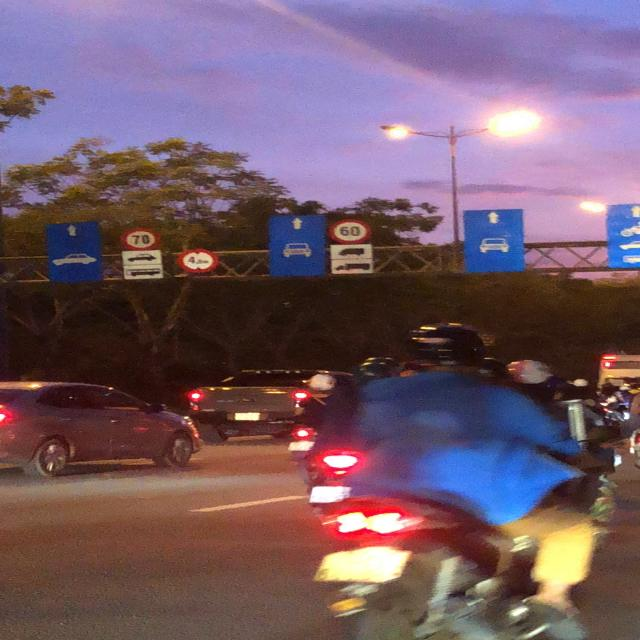Bien bao han che chieu cao: (174, 246, 222, 274)
Bien bao toc do toi da cho phep: (328, 216, 376, 245), (115, 225, 159, 251)
